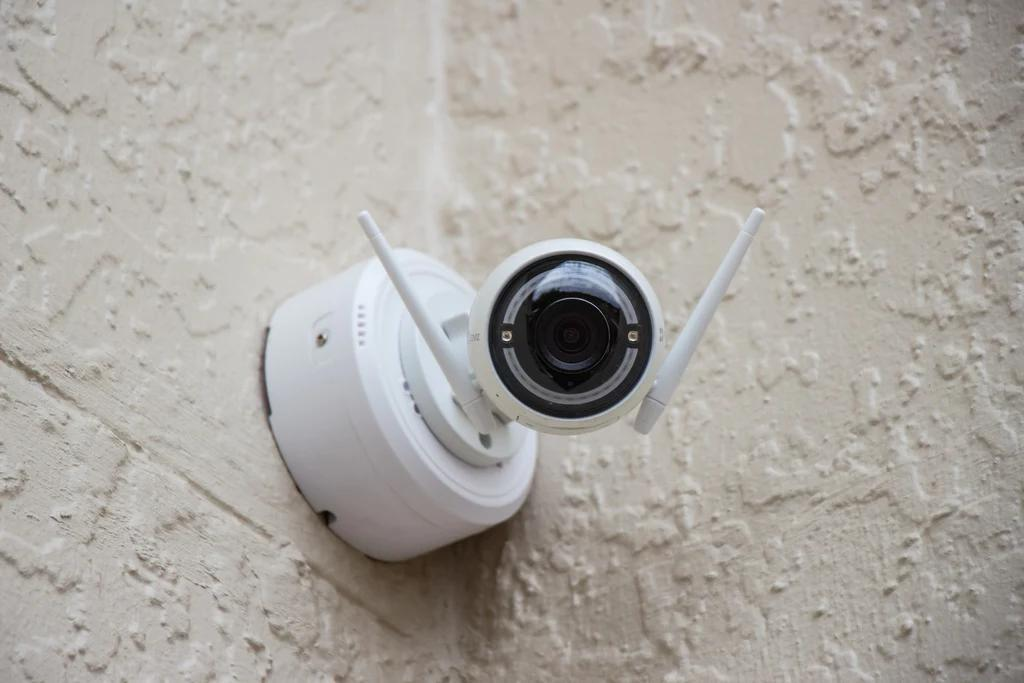camera: (305, 100, 785, 518)
